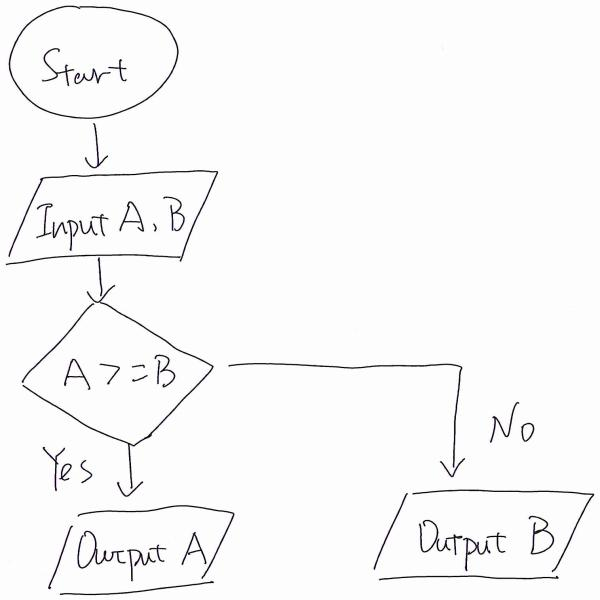arrow: (225, 346, 474, 482), (80, 260, 123, 306), (115, 448, 144, 501), (83, 124, 112, 172)
data: (3, 169, 226, 267), (370, 494, 594, 575), (45, 511, 233, 590)
terminator: (16, 303, 217, 445), (9, 8, 181, 121)
text: (410, 511, 551, 567), (40, 194, 186, 236), (75, 528, 203, 574), (476, 392, 547, 471), (62, 348, 185, 389), (31, 48, 136, 92), (34, 441, 104, 492)
